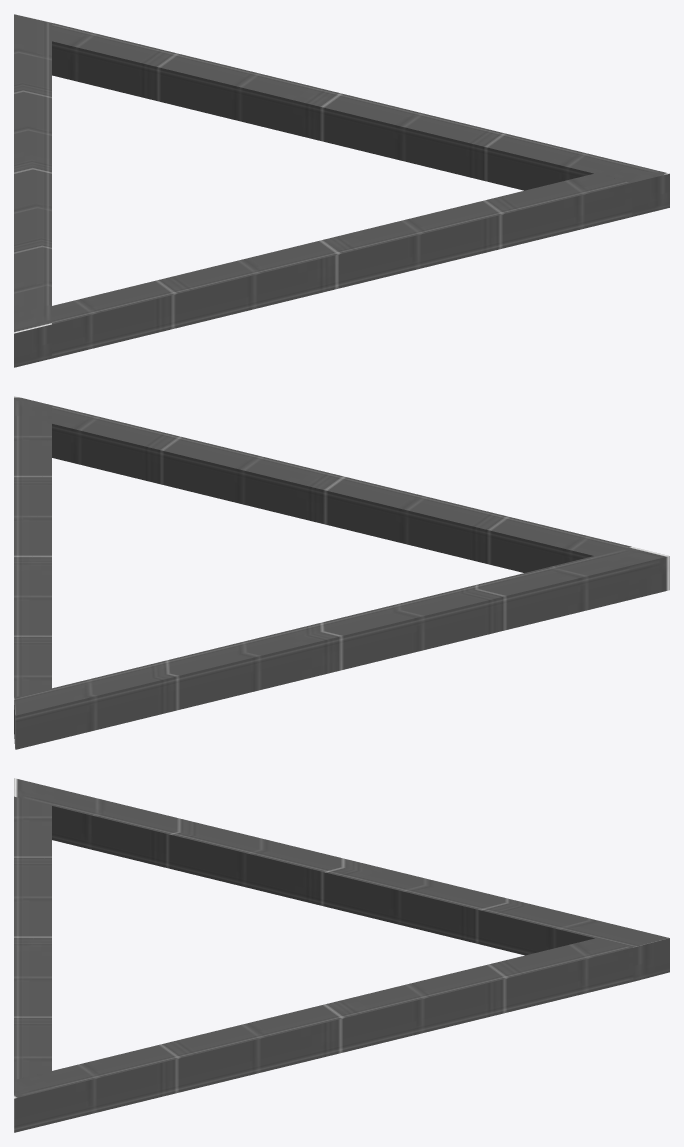
The model's file is floor.triangle.frame.glb.
3 renders of one model, top to bottom at view 1: azimuth 30°, elevation 25°; view 2: azimuth 150°, elevation 25°; view 3: azimuth 270°, elevation 25°, orthographic.
Visible parts, largest first — view 1: floor.triangle.frame; view 2: floor.triangle.frame; view 3: floor.triangle.frame.
Boxes of the visible parts, x1,y1,x2,y2 form: floor.triangle.frame: (14, 14, 669, 367); floor.triangle.frame: (14, 396, 669, 749); floor.triangle.frame: (14, 778, 669, 1132).
Bounding box in the file's own units: 3.01 × 0.1495 × 2.6.
1 material, 1 textured.
